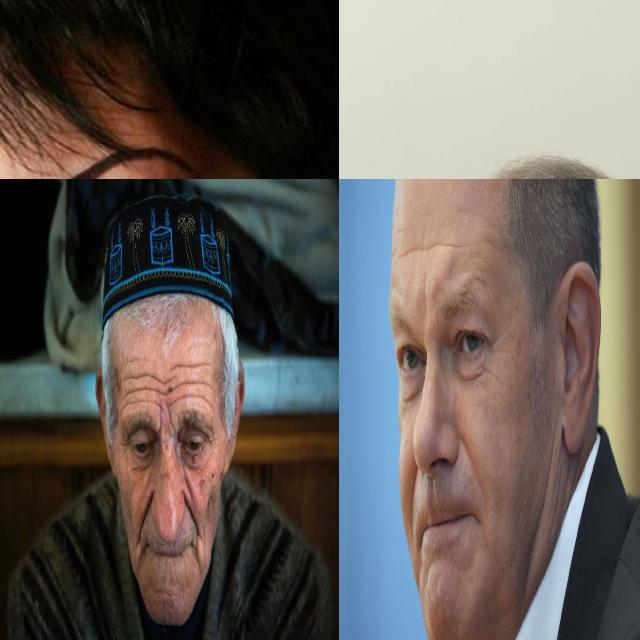chin: (153, 586, 170, 602)
crows_feet: (488, 332, 508, 362)
forehead: (401, 237, 464, 264), (125, 368, 146, 395), (186, 376, 204, 404), (150, 369, 166, 400), (189, 354, 209, 376), (122, 395, 148, 411), (169, 381, 184, 406), (171, 354, 186, 376)
frown_line: (164, 406, 177, 435), (156, 406, 164, 437), (420, 288, 428, 317)
gummy_smile: (459, 430, 477, 478), (409, 464, 421, 527), (184, 496, 199, 529), (139, 495, 151, 530)
masseter: (544, 424, 560, 512)
